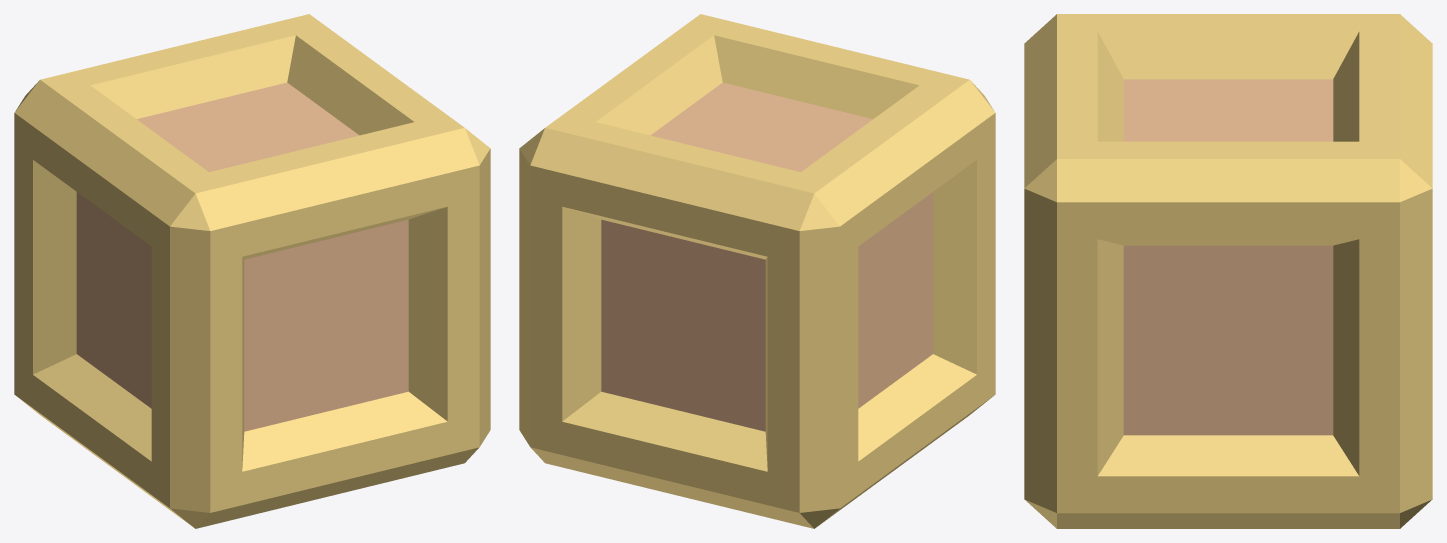
The picture shows the model from 3 angles, left to right: view 1: azimuth 30°, elevation 25°; view 2: azimuth 150°, elevation 25°; view 3: azimuth 270°, elevation 25°; orthographic projection. The views are drawn at different scales.
Parts seen in each view (by area): view 1: cube(Clone); view 2: cube(Clone); view 3: cube(Clone).
Part boxes in pixels (x1=…): cube(Clone): x1=14, y1=14, x2=490, y2=528; cube(Clone): x1=519, y1=14, x2=995, y2=528; cube(Clone): x1=1024, y1=14, x2=1432, y2=528.
Bounding box in the file's own units: 0.5 × 0.5 × 0.5.
